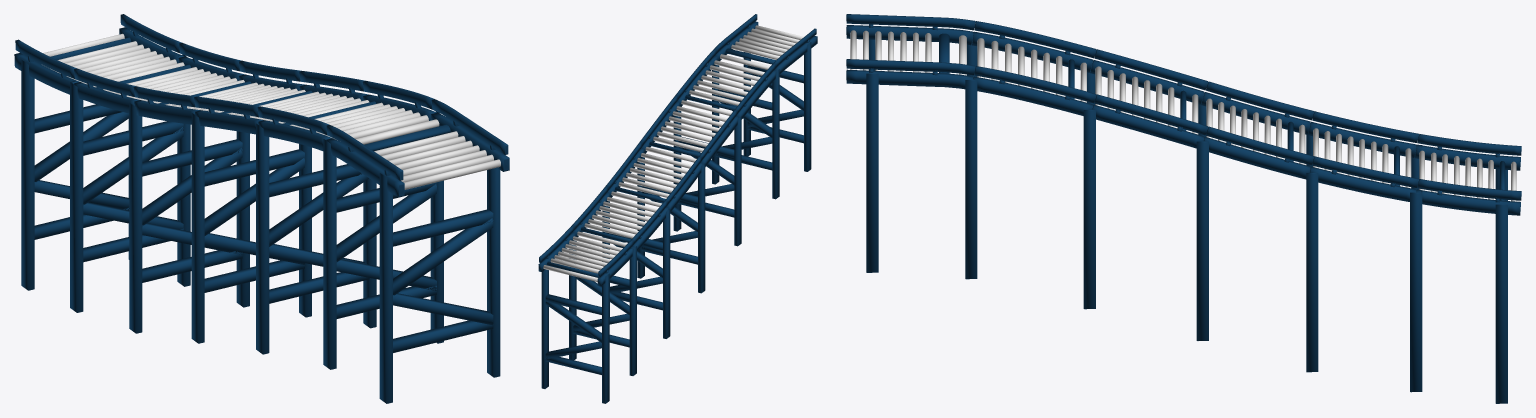
Rendered from Inclined conveyor.glb.
The picture shows the model from 3 angles, left to right: view 1: azimuth 30°, elevation 25°; view 2: azimuth 150°, elevation 25°; view 3: azimuth 270°, elevation 25°; orthographic projection. The views are drawn at different scales.
Visible parts, largest first — view 1: Belt.061, Belt.097, Belt.109, Belt.081, Belt.098, Belt.064, Belt.079, Belt.110, Belt.072, Belt.069, Belt.104, Belt.068 (+30 smaller); view 2: Belt.061, Belt.110, Belt.081, Belt.097, Belt.098, Belt.109, Belt.064, Belt.079, Belt.115, Belt.113, Belt.112, Belt.103 (+26 smaller); view 3: Belt.061, Belt.103, Belt.072, Belt.091, Belt.115, Belt.104, Belt.073, Belt.092.
Part boxes in pixels (x1,y1,x2,y2): Belt.061: (14,14,509,197); Belt.097: (256,123,269,354); Belt.109: (129,102,142,333); Belt.081: (191,113,204,343); Belt.098: (70,80,83,312); Belt.064: (379,173,392,403); Belt.079: (323,139,336,369); Belt.110: (21,59,34,290); Belt.072: (487,167,500,377); Belt.069: (393,218,493,295); Belt.104: (236,131,249,307); Belt.068: (393,209,493,246); Belt.061: (538,14,817,286); Belt.110: (602,273,609,403); Belt.081: (698,163,705,293); Belt.097: (734,116,741,246); Belt.098: (629,246,636,375); Belt.109: (663,209,670,338); Belt.064: (804,42,811,171); Belt.079: (772,69,779,199); Belt.115: (541,269,548,388); Belt.113: (545,301,601,342); Belt.112: (545,294,601,314); Belt.103: (569,233,576,360); Belt.061: (846,14,1521,215); Belt.103: (1410,191,1422,392); Belt.072: (866,73,878,272); Belt.091: (1196,141,1208,340); Belt.115: (1495,204,1507,403); Belt.104: (1306,172,1318,372); Belt.073: (965,78,977,279); Belt.092: (1083,109,1095,309).
Size of the model in its own units: 8.04 by 26.39 by 47.15.
